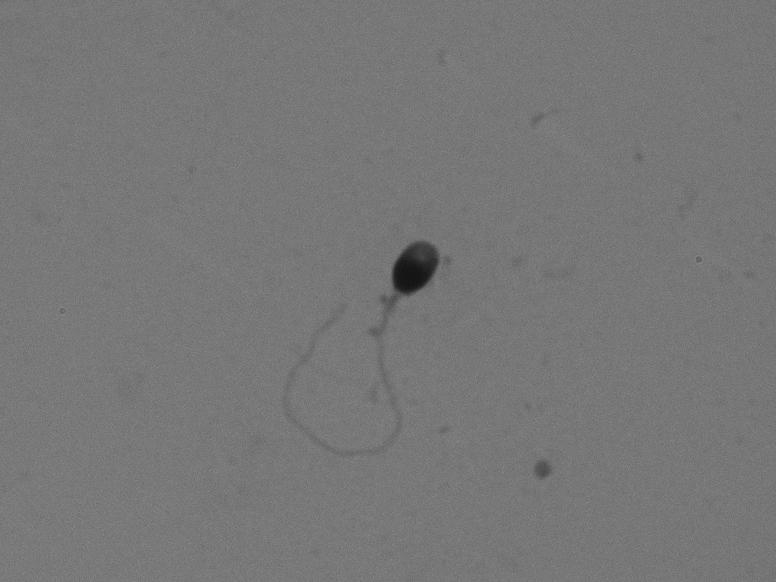Abnormal: (214, 213, 473, 471)
